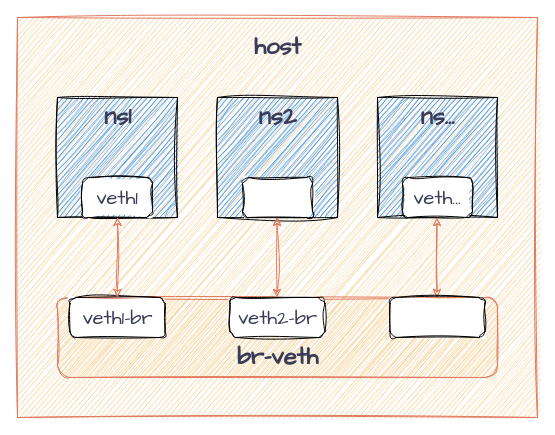
Image size: 555x435. Some labels were removed from this diagram. The centre of each missing label's shape, as x and y in pixels:
"veth...-br" goes at point 437,317.
"veth2" goes at point 277,197.
